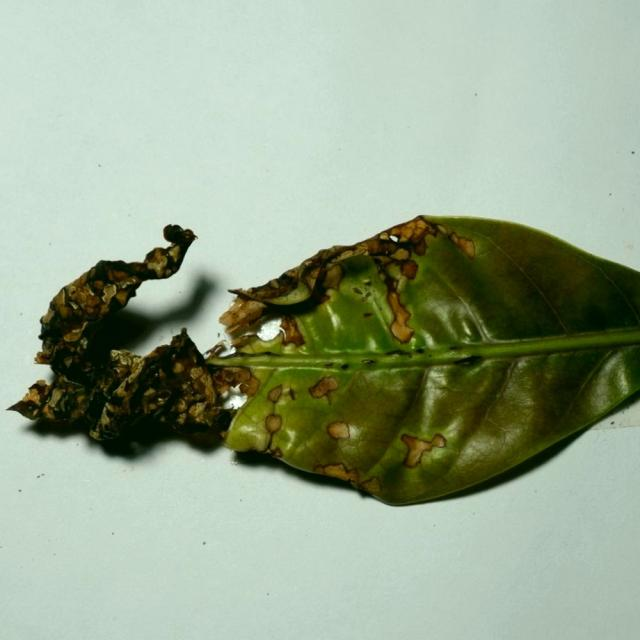Anthracnose: (224, 265, 322, 309), (92, 380, 143, 441), (5, 377, 71, 423), (385, 276, 420, 349), (219, 296, 267, 335), (399, 431, 448, 467), (391, 217, 434, 245), (308, 375, 339, 405), (279, 316, 306, 347), (315, 462, 355, 481), (218, 366, 252, 387), (164, 224, 198, 245), (103, 264, 135, 286), (267, 383, 294, 405), (190, 368, 212, 394), (325, 420, 352, 441), (454, 235, 476, 259), (146, 252, 168, 275), (100, 283, 121, 307), (363, 238, 391, 256), (323, 263, 343, 288), (172, 355, 196, 375), (204, 340, 230, 357), (240, 374, 260, 396), (358, 476, 381, 495), (262, 431, 280, 455), (265, 413, 283, 434), (353, 286, 374, 304), (401, 260, 419, 279), (113, 289, 131, 307), (57, 304, 75, 321), (33, 349, 53, 364), (61, 287, 74, 308), (64, 328, 83, 342), (431, 433, 447, 447), (86, 295, 101, 309), (363, 312, 373, 318)
Mango: (22, 216, 639, 509)
